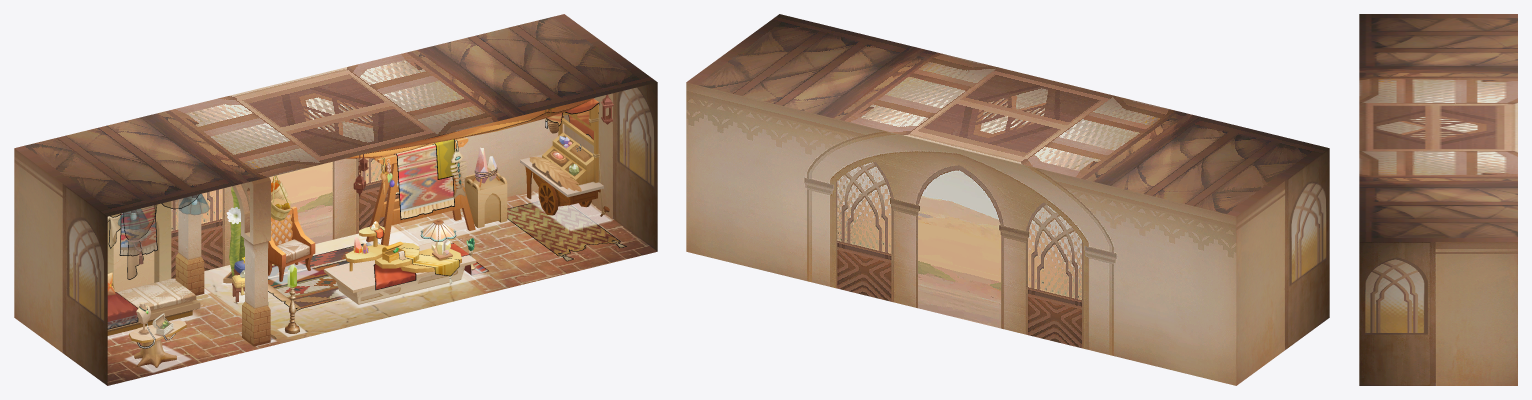
File: SargonFair.glb
3 renders of one model, left to right at view 1: azimuth 30°, elevation 25°; view 2: azimuth 150°, elevation 25°; view 3: azimuth 270°, elevation 25°, orthographic. The views are drawn at different scales.
Parts seen in each view (by area): view 1: ROOM_room, ROOM_floor, furni_SargonFair_yarncutoff_01, furni_SargonFair_bed_01, furni_SargonFair_stocktable_01, furni_SargonFair_stockcart_01, furni_SargonFair_clothshelf_02, furni_SargonFair_brokencarpet_01, furni_SargonFair_clothshelf_01, furni_SargonFair_carpet_01, furni_SargonFair_bed_02, furni_SargonFair_stocktable_02 (+15 smaller); view 2: ROOM_room, ROOM_LDoor; view 3: ROOM_room, ROOM_RDoor.
Boxes of the visible parts, x1,y1,x2,y2 form: ROOM_room: [14, 14, 657, 385]; ROOM_floor: [107, 189, 657, 385]; furni_SargonFair_yarncutoff_01: [175, 177, 270, 346]; furni_SargonFair_bed_01: [107, 201, 200, 335]; furni_SargonFair_stocktable_01: [324, 219, 476, 304]; furni_SargonFair_stockcart_01: [520, 104, 609, 216]; furni_SargonFair_clothshelf_02: [381, 139, 458, 219]; furni_SargonFair_brokencarpet_01: [507, 201, 626, 261]; furni_SargonFair_clothshelf_01: [366, 137, 475, 245]; furni_SargonFair_carpet_01: [268, 241, 380, 311]; furni_SargonFair_bed_02: [107, 205, 157, 329]; furni_SargonFair_stocktable_02: [369, 223, 488, 290]; ROOM_room: [686, 14, 1329, 385]; ROOM_LDoor: [1297, 251, 1315, 341]; ROOM_room: [1359, 14, 1517, 385]; ROOM_RDoor: [1382, 320, 1415, 385].
Size of the model in its own units: 7.49 by 2.2 by 2.22.
6 materials, 6 textured.
